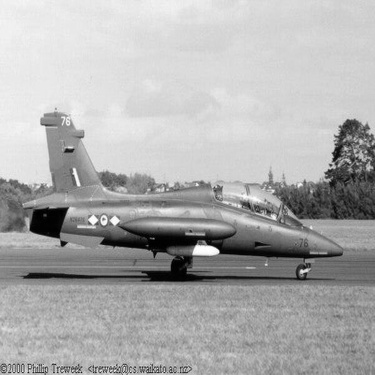airplane: (1, 93, 362, 297)
